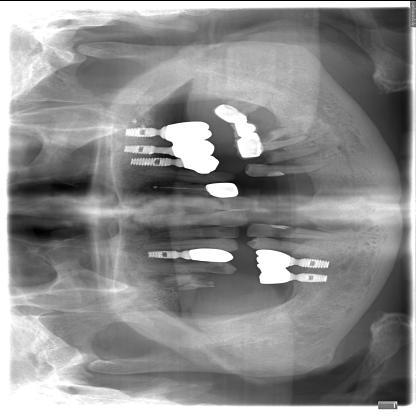Bicon: (142, 242, 188, 264), (117, 121, 159, 141), (289, 269, 333, 287), (290, 254, 334, 270), (126, 154, 162, 170), (121, 142, 155, 154)
